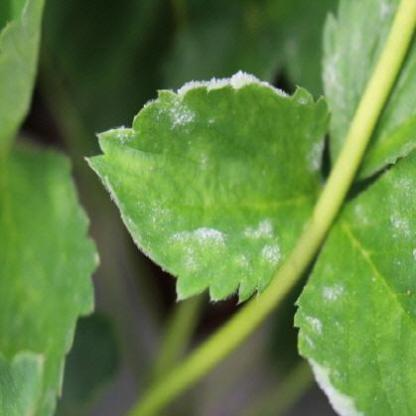Strawberry_Powdery_Mildew_Leaf: (81, 70, 330, 303), (292, 148, 415, 415), (321, 0, 415, 185)
